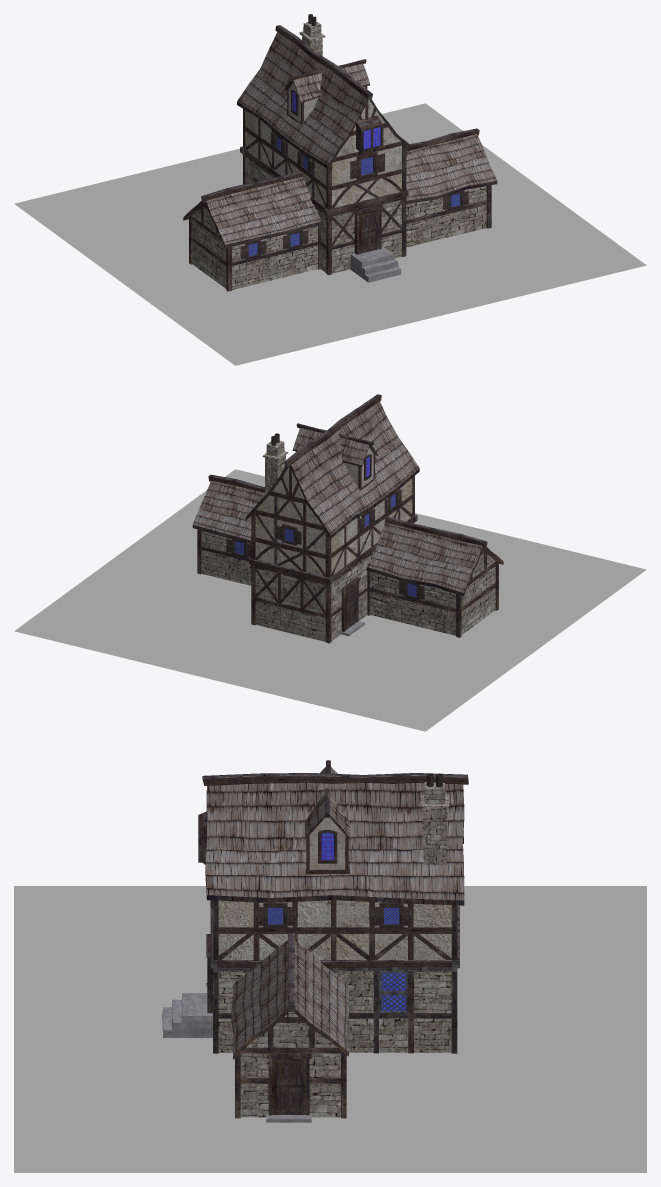
Rendered from medieval-house-2.obj.
3 renders of one model, top to bottom at view 1: azimuth 30°, elevation 25°; view 2: azimuth 150°, elevation 25°; view 3: azimuth 270°, elevation 25°, orthographic. The views are drawn at different scales.
Visible parts, largest first — view 1: Plane, Roof, Level1, WoodenBeams, Level2, RoofFrame, WindowFrames, Steps, DoorFront, Chimney; view 2: Plane, Roof, Level1, WoodenBeams, Level2, RoofFrame, WindowFrames, Chimney; view 3: Plane, Roof, Level1, WoodenBeams, Level2, RoofFrame, WindowFrames, Chimney, Steps, DoorSide, Level3, Window1Level1 (+1 smaller).
Part boxes in pixels (x1=…): Plane: x1=14, y1=103, x2=646, y2=365; Roof: x1=206, y1=31, x2=496, y2=244; Level1: x1=192, y1=157, x2=486, y2=289; WoodenBeams: x1=189, y1=81, x2=491, y2=291; Level2: x1=245, y1=99, x2=401, y2=207; RoofFrame: x1=183, y1=25, x2=497, y2=248; WindowFrames: x1=240, y1=89, x2=468, y2=260; Steps: x1=350, y1=246, x2=401, y2=282; DoorFront: x1=359, y1=210, x2=379, y2=253; Chimney: x1=299, y1=21, x2=325, y2=55; Plane: x1=14, y1=469, x2=646, y2=731; Roof: x1=192, y1=401, x2=482, y2=592; Level1: x1=201, y1=530, x2=495, y2=641; WoodenBeams: x1=197, y1=446, x2=498, y2=643; Level2: x1=255, y1=467, x2=412, y2=575; RoofFrame: x1=192, y1=394, x2=503, y2=596; WindowFrames: x1=226, y1=454, x2=424, y2=600; Chimney: x1=262, y1=440, x2=288, y2=494; Plane: x1=14, y1=886, x2=646, y2=1172; Roof: x1=205, y1=767, x2=464, y2=1054; Level1: x1=218, y1=971, x2=451, y2=1117; WoodenBeams: x1=210, y1=817, x2=459, y2=1118; Level2: x1=218, y1=900, x2=451, y2=959; RoofFrame: x1=202, y1=760, x2=468, y2=1059; WindowFrames: x1=198, y1=811, x2=412, y2=1058; Chimney: x1=420, y1=782, x2=449, y2=865; Steps: x1=162, y1=993, x2=212, y2=1037; DoorSide: x1=272, y1=1059, x2=306, y2=1114; Level3: x1=309, y1=817, x2=345, y2=869; Window1Level1: x1=381, y1=972, x2=406, y2=1011.
Size of the model in its own units: 22.44 by 9.79 by 20.92.
Materials: 17 (16 with a texture image).
